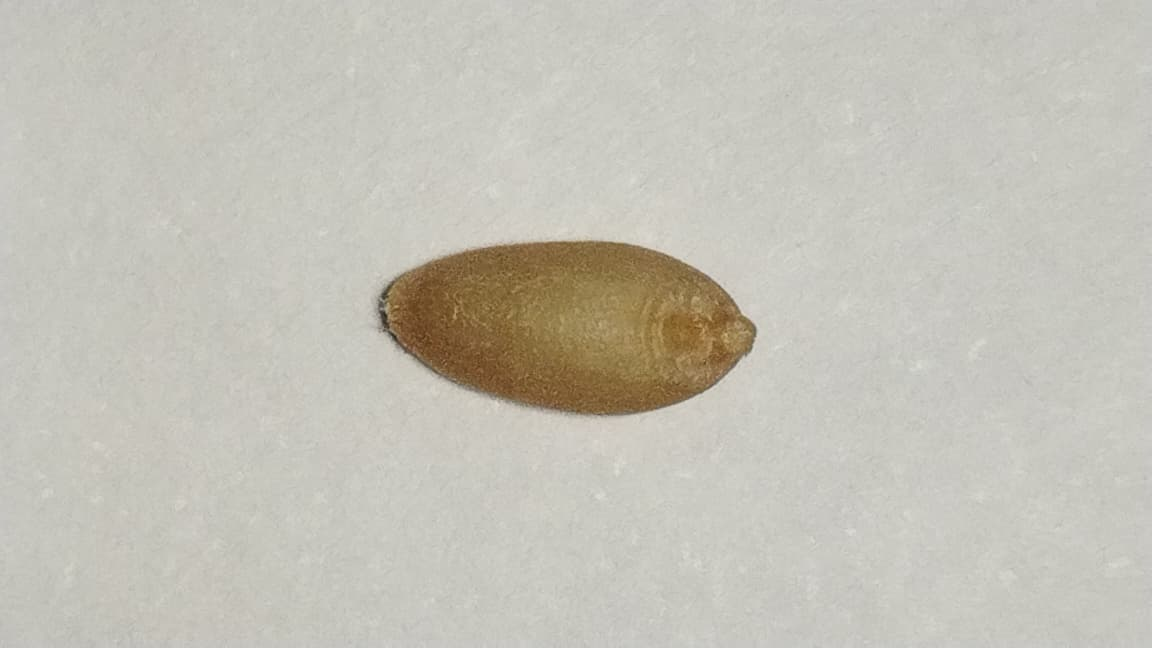healthy: (378, 243, 755, 414)
